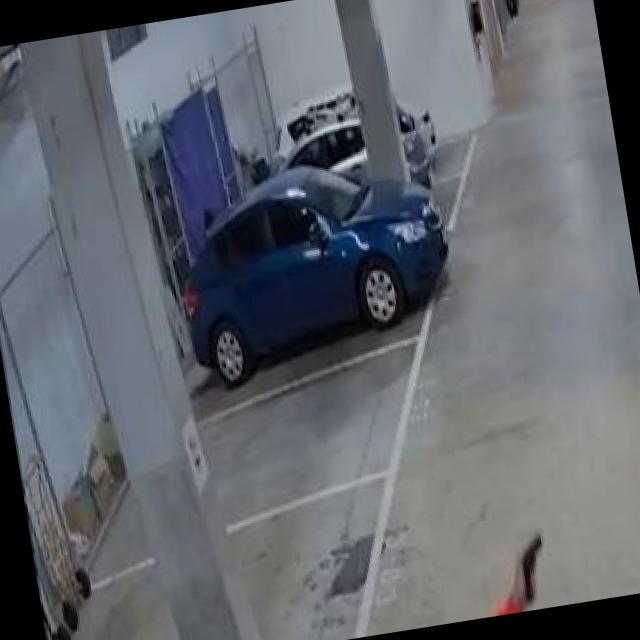Guns: (494, 517, 560, 614)
